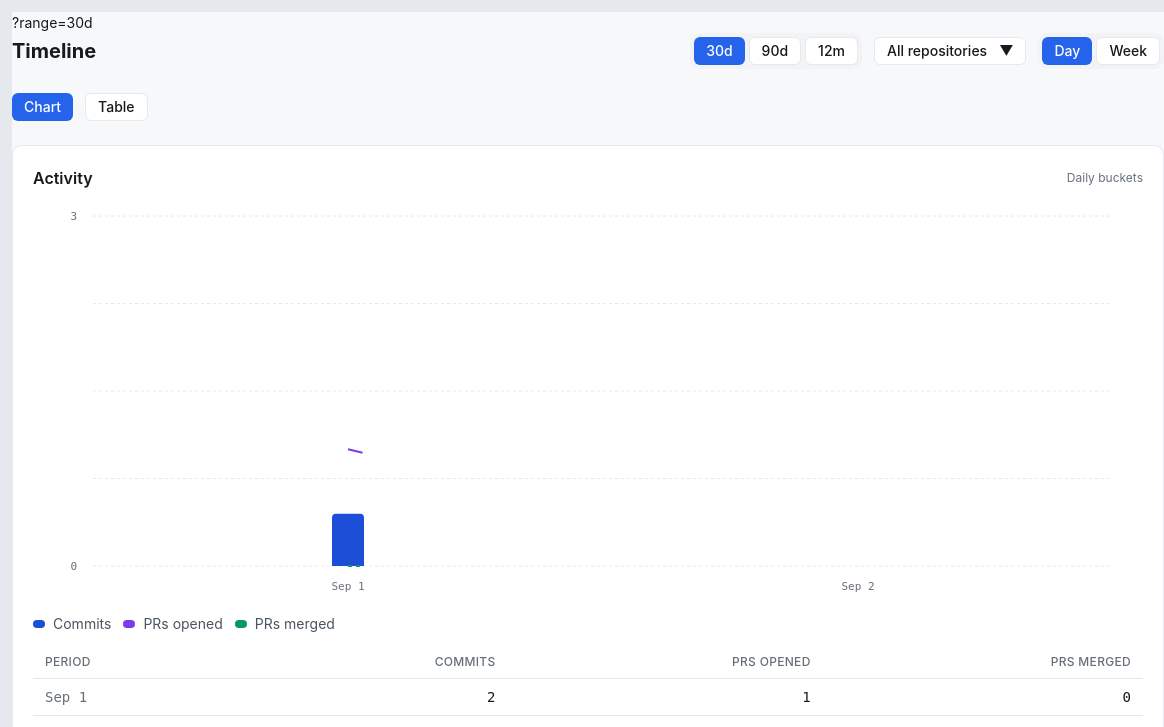
Timeline URL synchronization (T5.2) › changing the range updates the URL
expect the element named "Time range" is shown: met, box [690, 33, 862, 69]
Click the button "12m".
click(832, 51)  # box [805, 37, 858, 65]
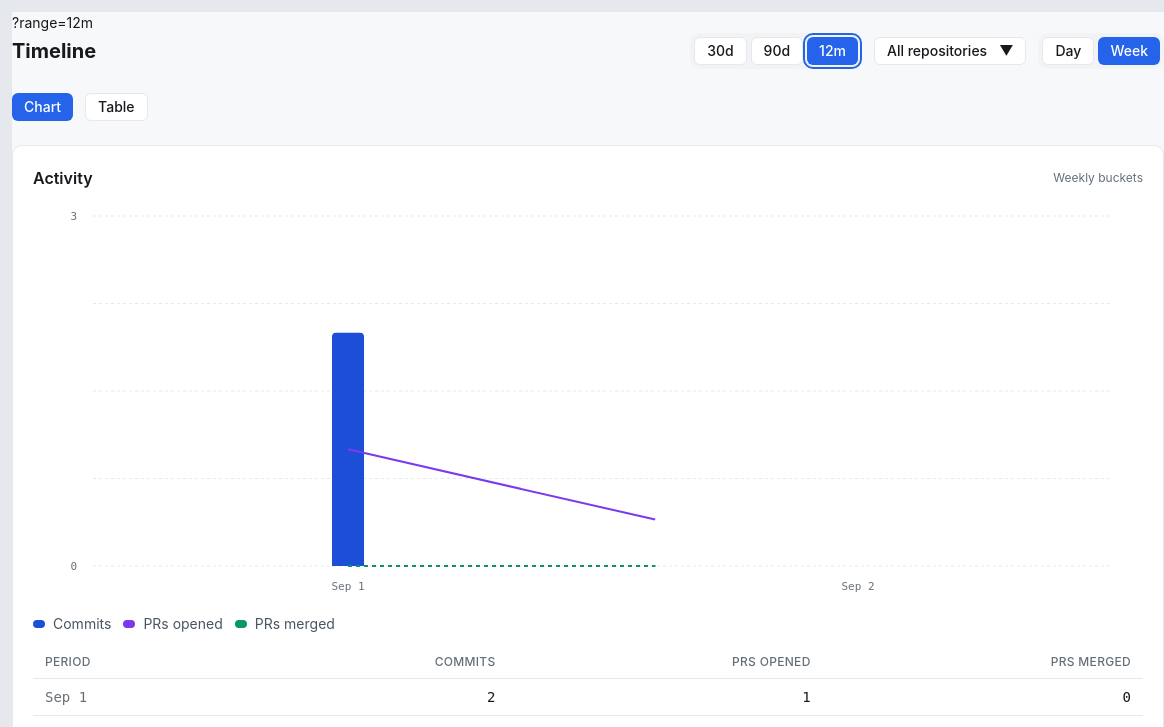
expect the text with test id "router-search" shows "range=12m": met, box [12, 14, 93, 31]
